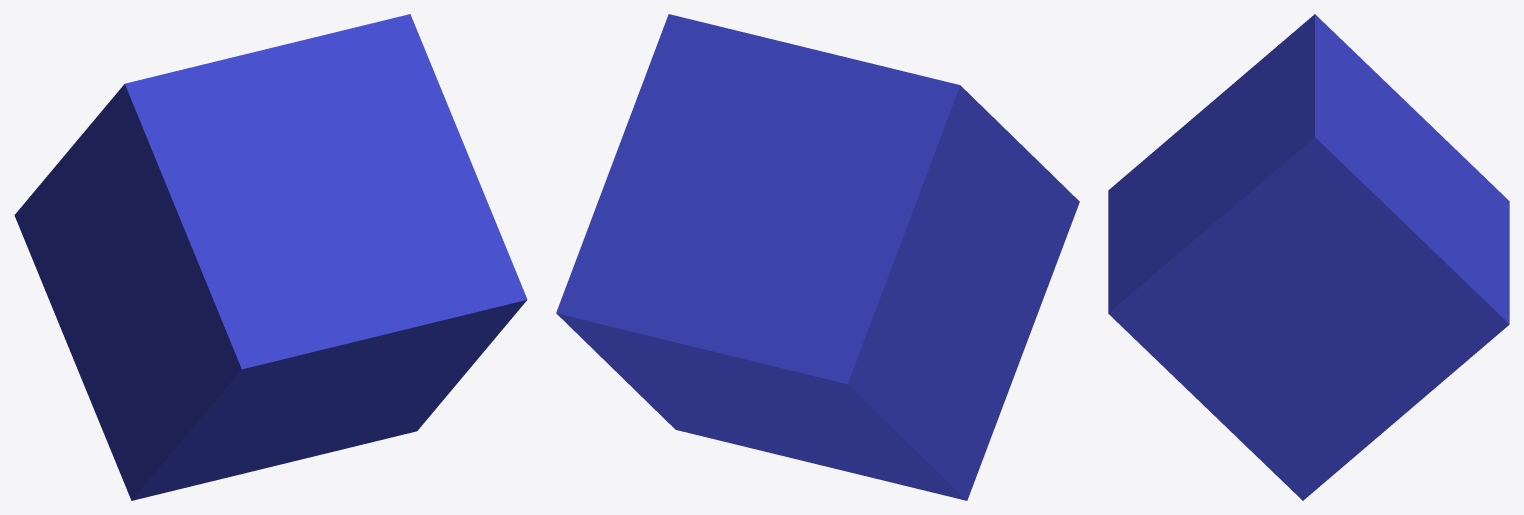
Rendered from CubeTest.fbx.
3 views of the same model, side by side, from view 1: azimuth 30°, elevation 25°; view 2: azimuth 150°, elevation 25°; view 3: azimuth 270°, elevation 25° (orthographic). The views are drawn at different scales.
Parts seen in each view (by area): view 1: root; view 2: root; view 3: root.
Part boxes in pixels (bbox=[...]): root: bbox=[14, 14, 527, 500]; root: bbox=[556, 14, 1079, 500]; root: bbox=[1108, 14, 1509, 500].
Bounding box in the file's own units: 0.3208 × 0.4425 × 0.4425.
